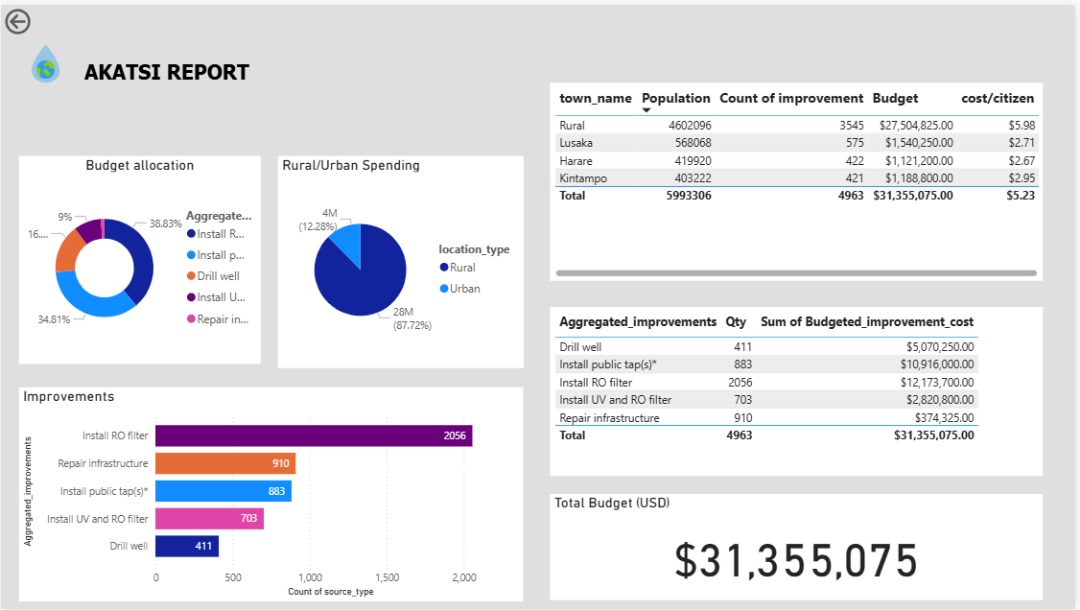

The dashboard page shown, as its layout file describes it:
{"tool":"powerbi","page":{"name":"Akatsi","canvas":[1280,720],"ordinal":7},"visuals":[{"type":"textbox","box":[94.7,60.4,472,79.6],"z":0},{"type":"image","box":[0,39.8,105.7,60.4],"z":1000},{"type":"clusteredBarChart","title":"Improvements","fields":{"Category":["project_progress.Aggregated_improvements"],"Y":["CountNonNull(project_progress.source_type)"]},"box":[22,455.6,601,255.2],"z":2000},{"type":"card","title":"Total Budget (USD)","fields":{"Values":["Sum(project_progress.Budgeted_improvement_cost)"]},"box":[654.5,583.2,587.3,126.2],"z":6000},{"type":"donutChart","title":"Budget allocation","fields":{"Category":["project_progress.Aggregated_improvements"],"Y":["Sum(project_progress.Budgeted_improvement_cost)"]},"box":[22,179.8,288.2,248.4],"z":7000},{"type":"pieChart","title":"Rural/Urban Spending","fields":{"Category":["location.location_type"],"Y":["Sum(project_progress.Budgeted_improvement_cost)"]},"box":[330.7,183.9,292.3,248.4],"z":8000},{"type":"tableEx","title":"Number of people served for water source based on location type","fields":{"Values":["location.town_name","Sum(water_source.number_of_people_served)","project_progress.Aggregated_improvements","project_progress.Budgeted_improvement_cost","select"]},"box":[654.5,93.3,587.3,236],"z":9000},{"type":"tableEx","fields":{"Values":["project_progress.Aggregated_improvements","CountNonNull(project_progress.Aggregated_improvements)","project_progress.Budgeted_improvement_cost"]},"box":[654.5,359.5,587.3,201.7],"z":10000},{"type":"actionButton","box":[0,0,100,40],"z":11000}]}

Visuals, with their boxes in screenshot pixels (x1, y1, x2, y2), scaled from the page's 1280x720 canvas onto the 1080x610 screenshot:
textbox: {"x1": 80, "y1": 51, "x2": 478, "y2": 119}
image: {"x1": 0, "y1": 34, "x2": 89, "y2": 85}
"Improvements" clusteredBarChart: {"x1": 19, "y1": 386, "x2": 526, "y2": 602}
"Total Budget (USD)" card: {"x1": 552, "y1": 494, "x2": 1048, "y2": 601}
"Budget allocation" donutChart: {"x1": 19, "y1": 152, "x2": 262, "y2": 363}
"Rural/Urban Spending" pieChart: {"x1": 279, "y1": 156, "x2": 526, "y2": 366}
"Number of people served for water source based on location type" tableEx: {"x1": 552, "y1": 79, "x2": 1048, "y2": 279}
tableEx - project_progress.Aggregated_improvements x CountNonNull(project_progress.Aggregated_improvements): {"x1": 552, "y1": 305, "x2": 1048, "y2": 475}
actionButton: {"x1": 0, "y1": 0, "x2": 84, "y2": 34}
